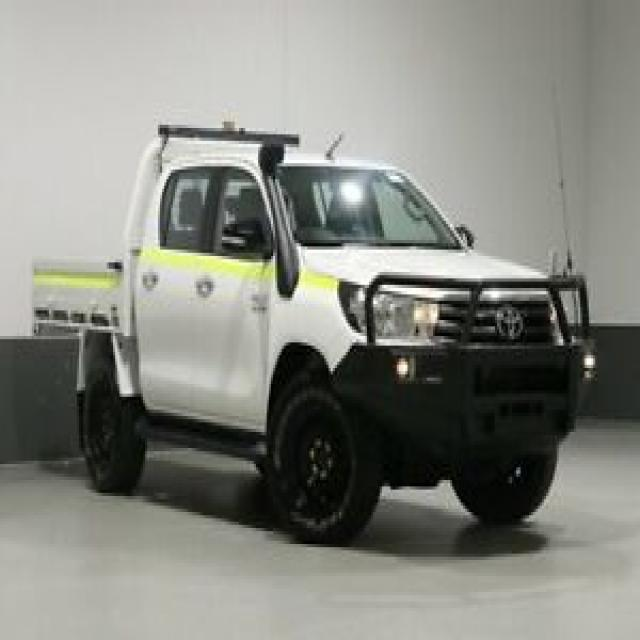light_vehicle: (22, 106, 596, 554)
